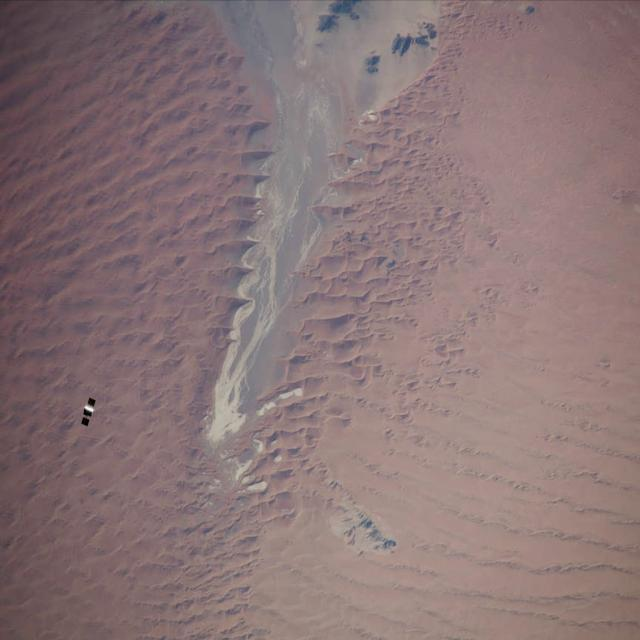satellite: (70, 389, 105, 434)
